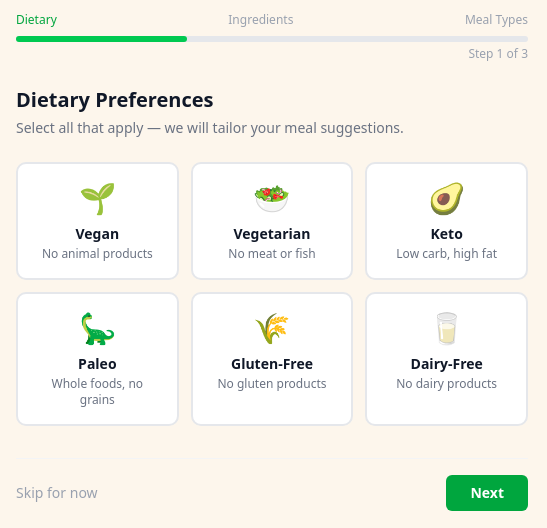
Test: OnboardingWizard › goes back to step 1 from step 2
Click the button "Next": (487,493) x1=446 y1=475 x2=528 y2=511
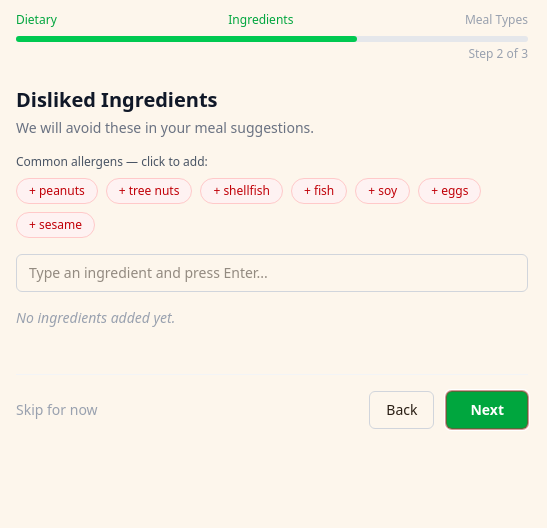
Click the button "Back": (402,410) x1=369 y1=391 x2=434 y2=429
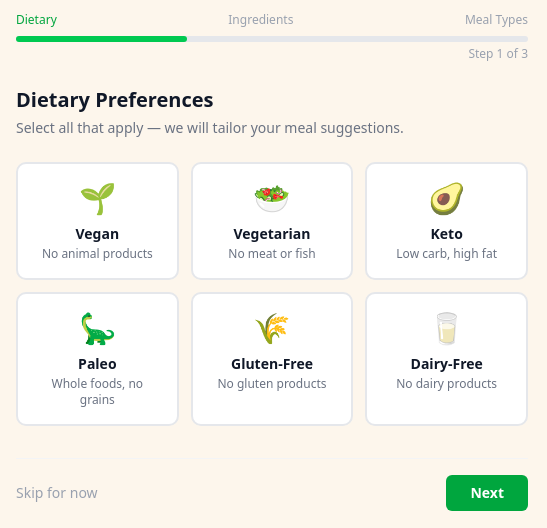
Expected: the heading "Dietary Preferences" is shown, x1=16 y1=86 x2=214 y2=113
